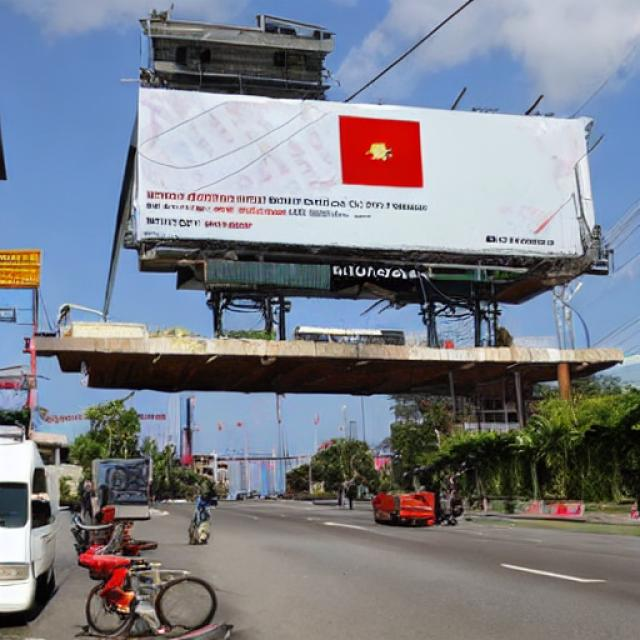Billboard: (133, 84, 613, 280)
